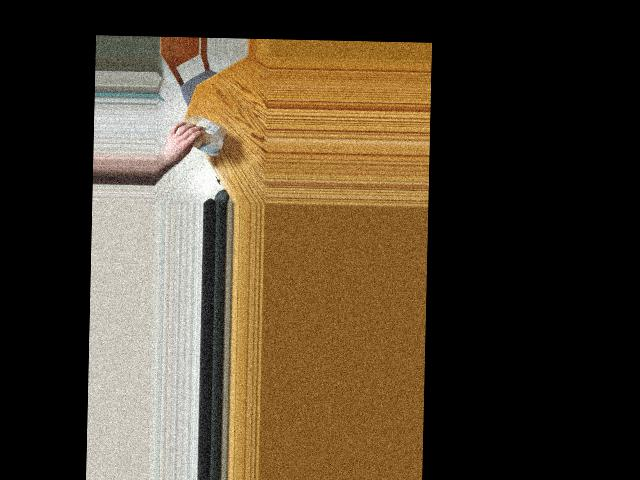cheese: (182, 121, 223, 151)
